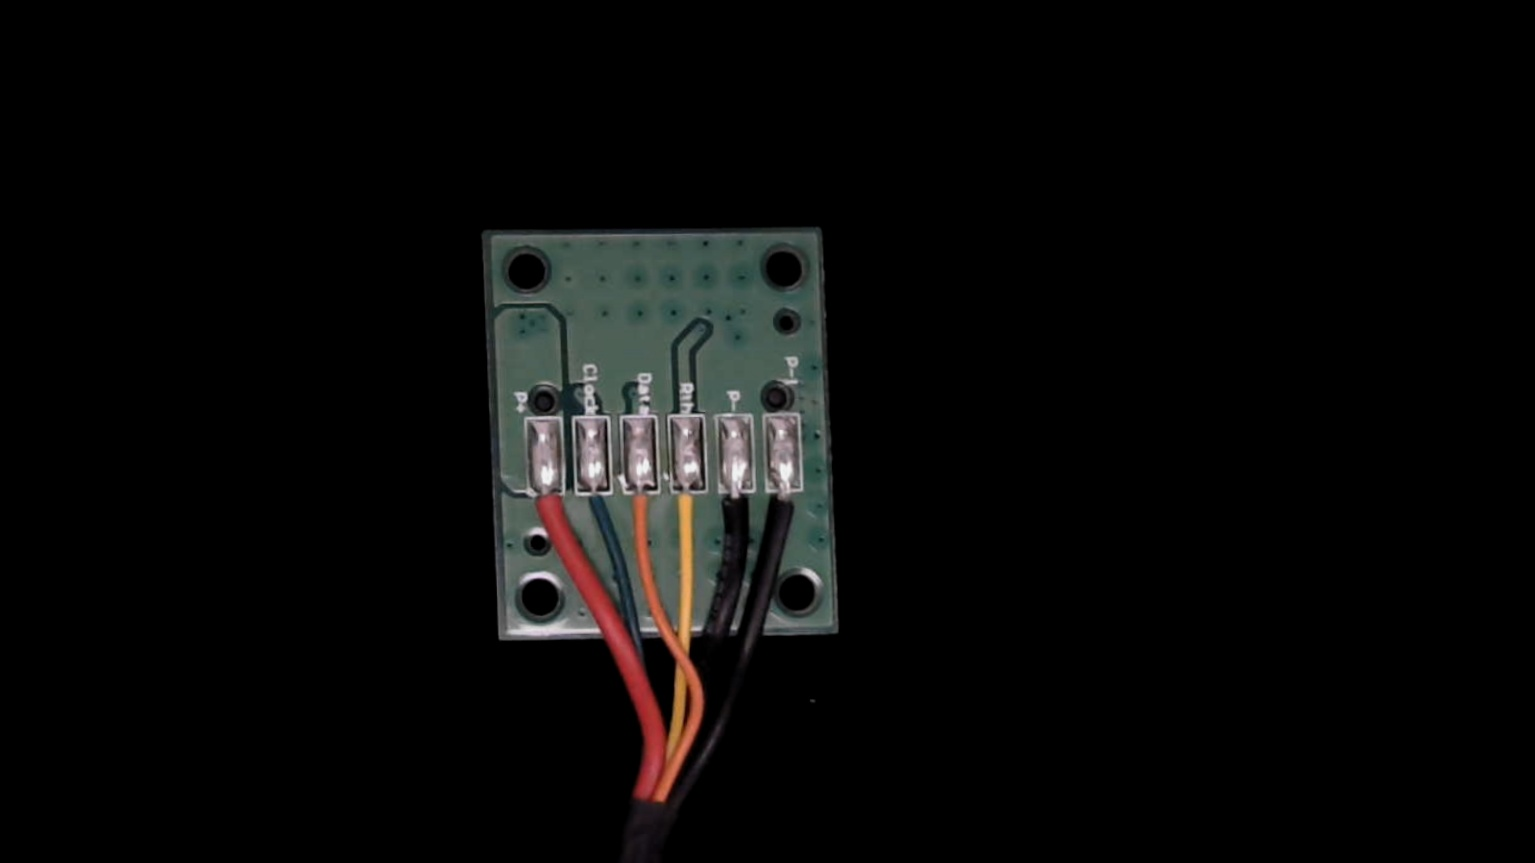Black: (714, 472, 758, 563)
Black1: (765, 473, 809, 556)
Green: (576, 470, 617, 542)
Orange: (622, 471, 663, 561)
Red: (524, 471, 568, 558)
Yellow: (666, 471, 711, 564)
